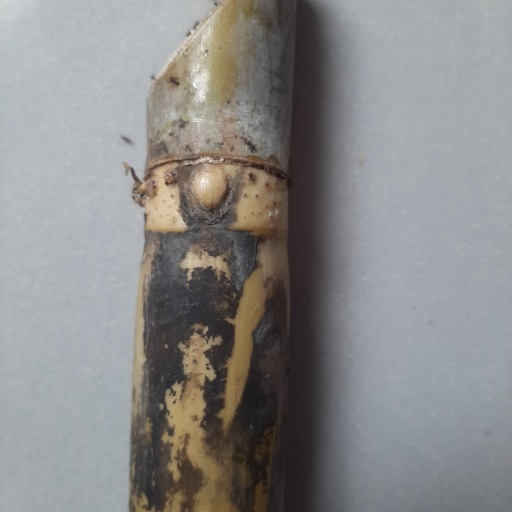Bud: (187, 163, 229, 210)
